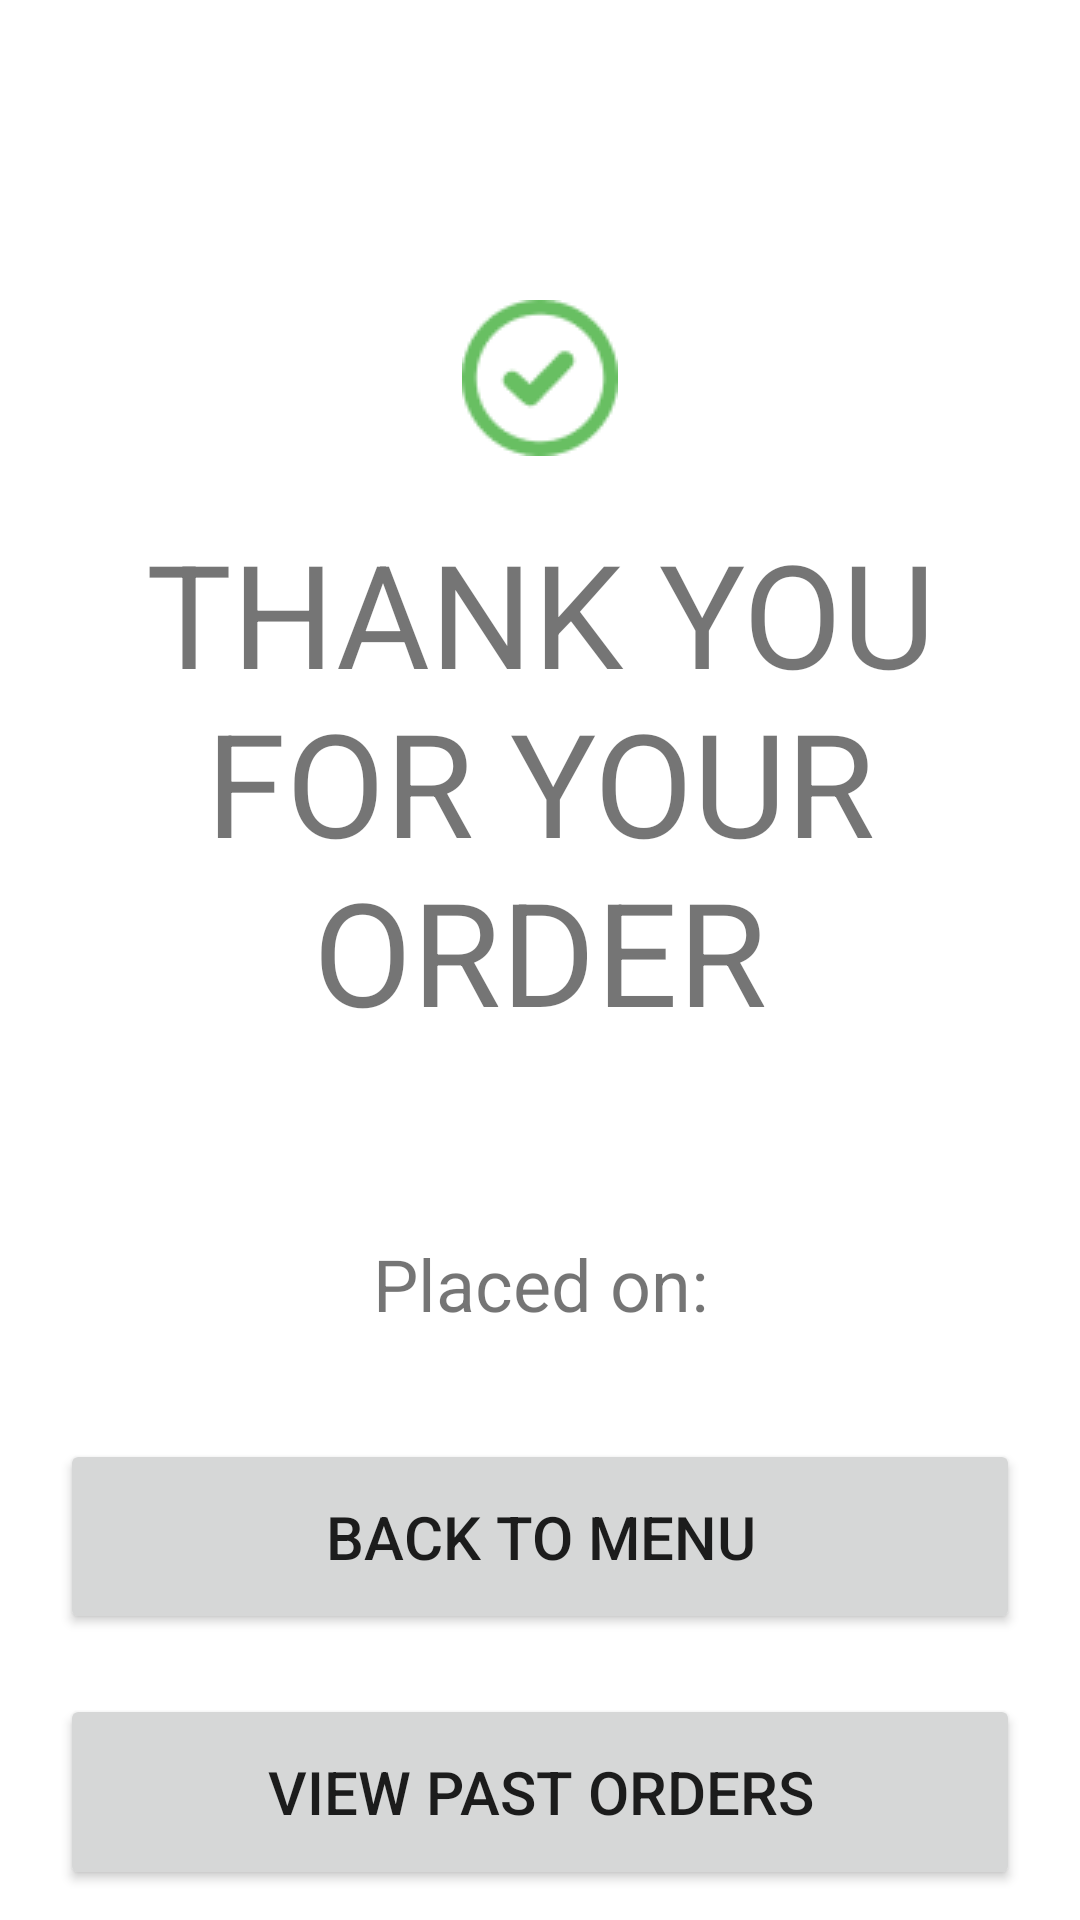

Icons on this 1080px x 1920px Android screen, each with its box as (x1, y1, x2, y2):
check: (462, 300, 618, 456)
